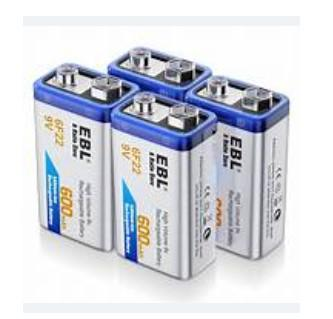9V Battery: (110, 90, 219, 281)
